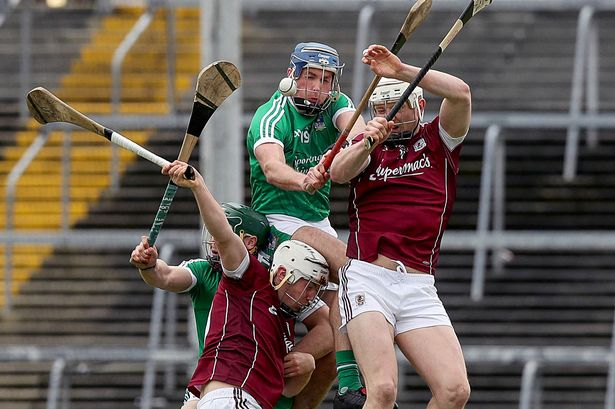ball: (278, 77, 297, 95)
player: (349, 79, 473, 404), (244, 38, 350, 262), (205, 219, 317, 403)
